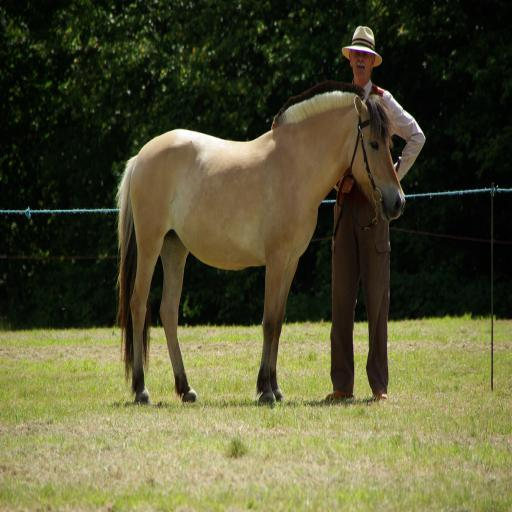Horse: (115, 80, 408, 406)
